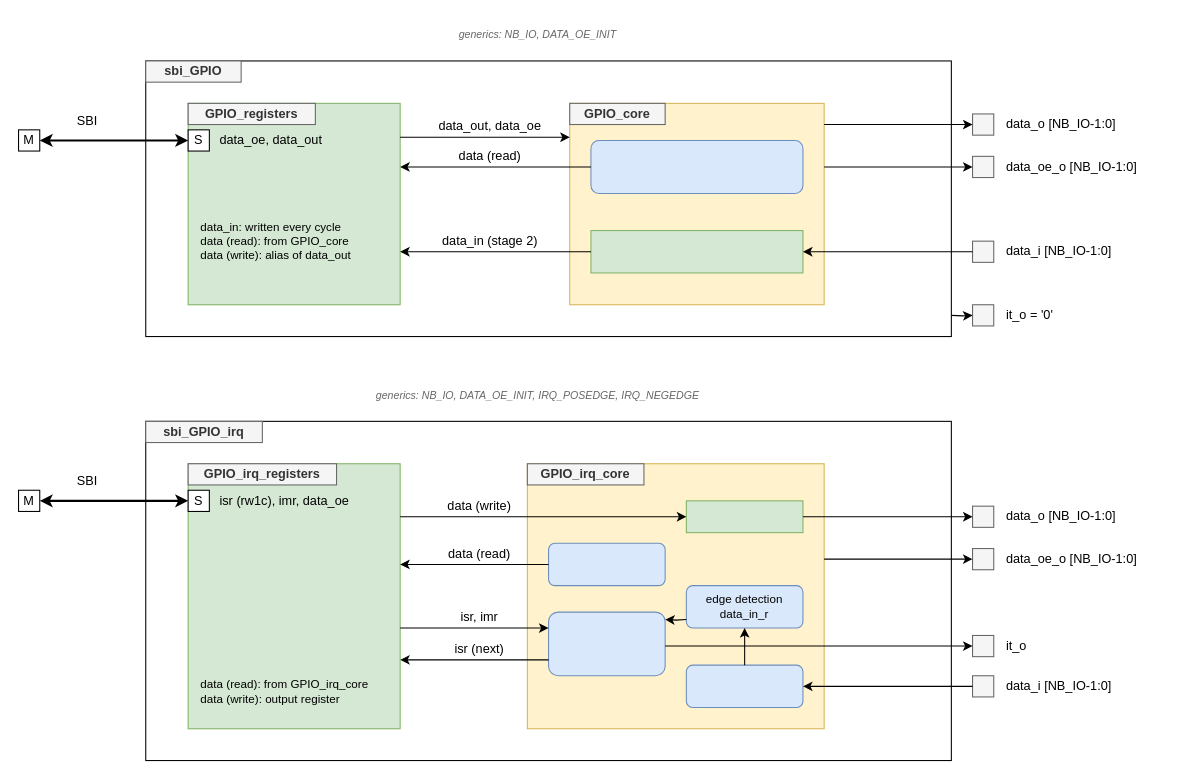
Some shapes in this 1203 by 779 pixel diagram are drawn without their labels. The shapes that lost their labels are listed below. From the top down, each one's centre as x and y in pixels, then its label:
At [696,166]: "data read mux (data_out and data_oe) or (data_in and not data_oe)".
At [696,251]: "data_in_meta_r synchronizer stage 1".
At [744,516]: "data_out_r".
At [606,564]: "data read mux".
At [606,643]: "GIC_core isr = its or isr it = OR(isr and imr)".
At [744,686]: "sync2dff per line".
